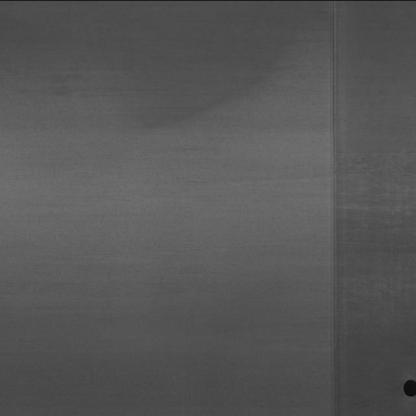punching_hole: (400, 376, 415, 399)
welding_line: (312, 5, 356, 413)
